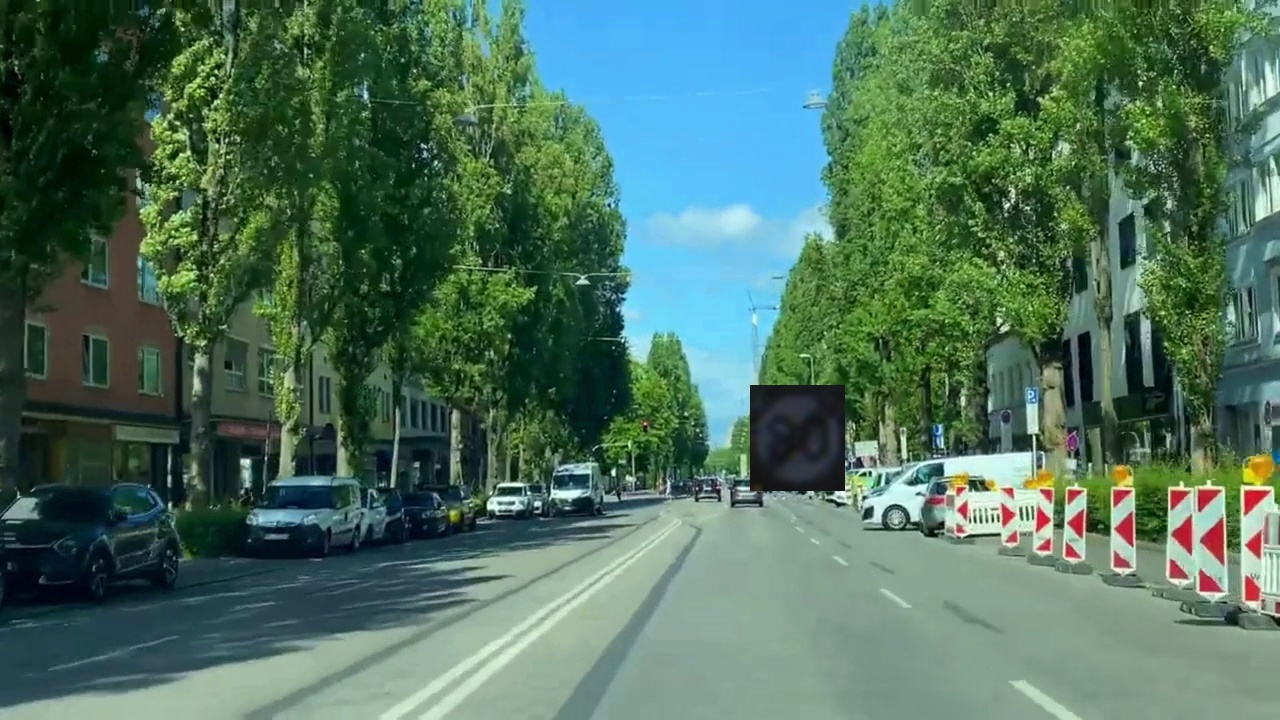End Speed 80: (750, 385, 845, 491)
